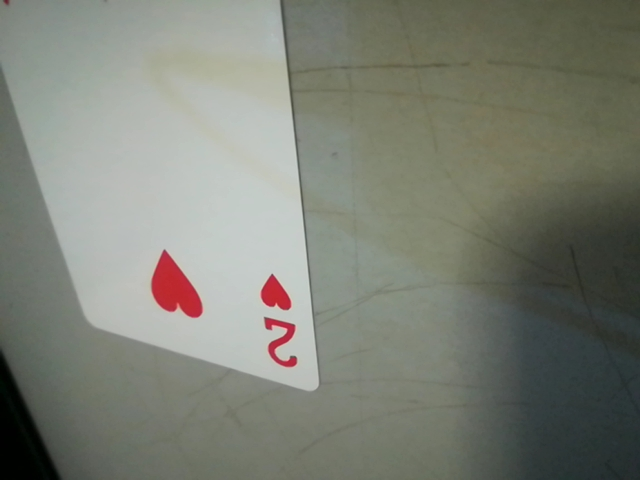hx 2: (250, 266, 308, 380)
